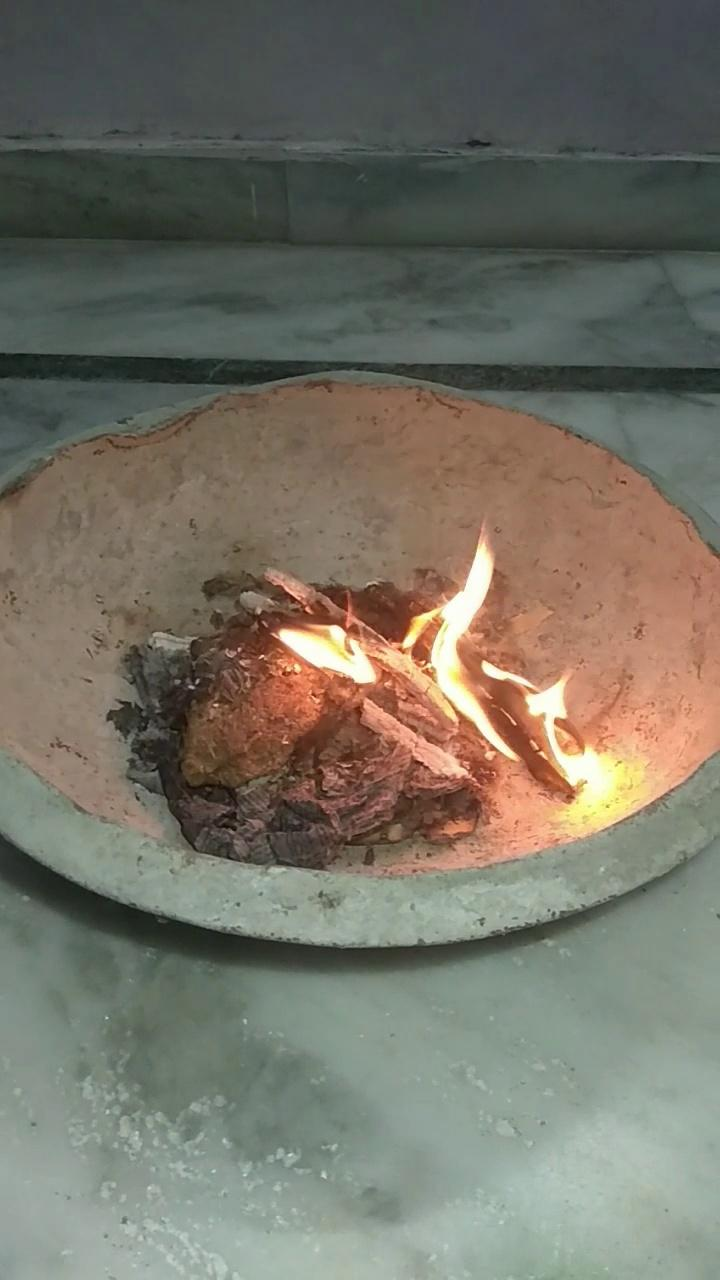fire: (254, 551, 630, 812)
